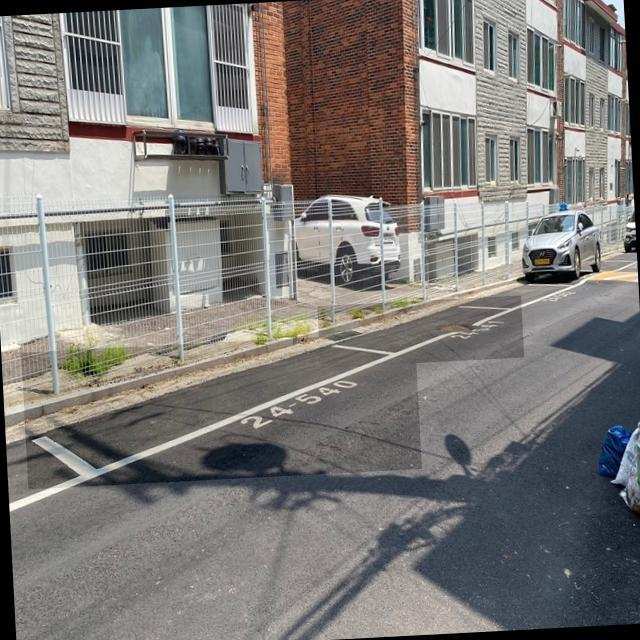empty: (26, 337, 416, 487), (320, 300, 522, 364)
